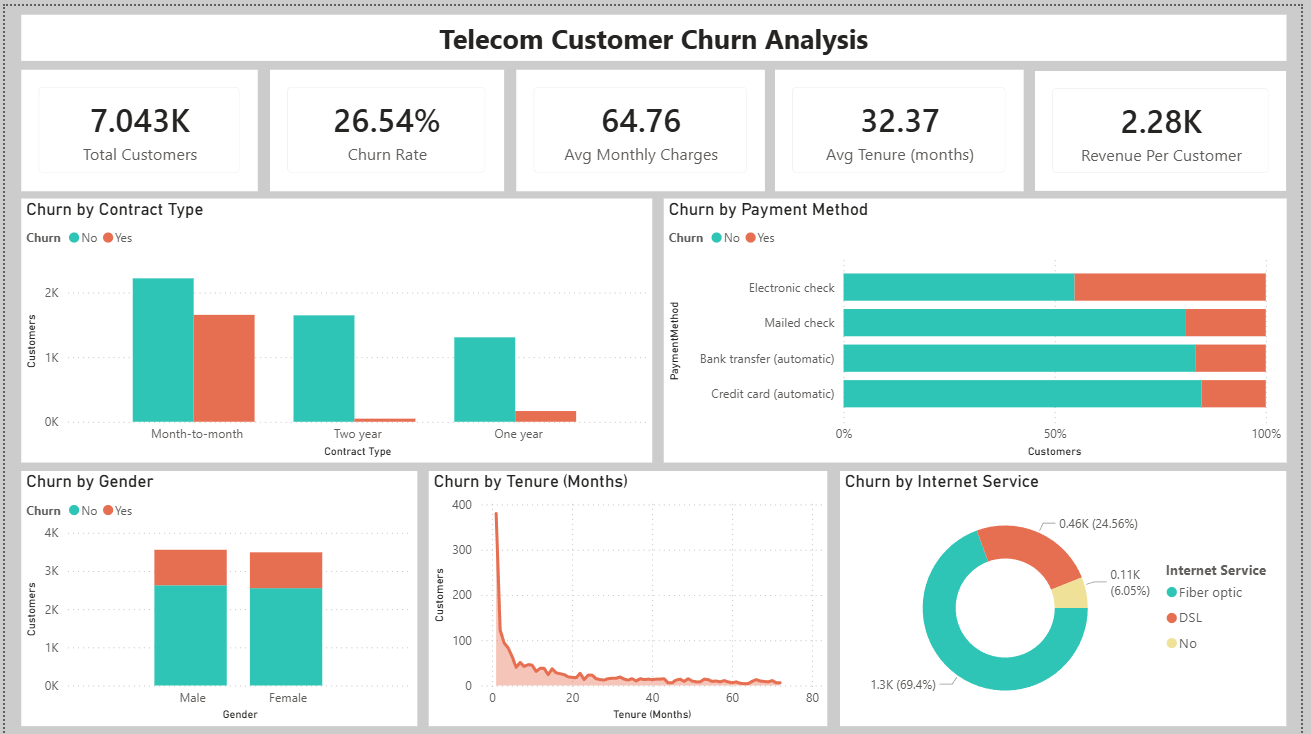

The dashboard page shown, as its layout file describes it:
{"tool":"powerbi","page":{"name":"Page 1","canvas":[1280,720],"ordinal":0},"visuals":[{"type":"clusteredColumnChart","title":"Churn by Contract Type","fields":{"Category":["WA_Fn-UseC_-Telco-Customer-Chur.Contract"],"Y":["CountNonNull(WA_Fn-UseC_-Telco-Customer-Chur.Churn)"],"Series":["WA_Fn-UseC_-Telco-Customer-Chur.Churn"]},"box":[16,190.1,623.5,260.5],"z":0},{"type":"areaChart","title":"Churn by Tenure (Months)","fields":{"Category":["WA_Fn-UseC_-Telco-Customer-Chur.tenure"],"Y":["CountNonNull(WA_Fn-UseC_-Telco-Customer-Chur.Churn)"]},"box":[418.5,459.3,393.8,251.9],"z":1000},{"type":"donutChart","title":"Churn by Internet Service","fields":{"Y":["CountNonNull(WA_Fn-UseC_-Telco-Customer-Chur.InternetService)"],"Category":["WA_Fn-UseC_-Telco-Customer-Chur.InternetService"]},"box":[824.7,459.3,440.7,251.9],"z":2000},{"type":"hundredPercentStackedBarChart","title":"Churn by Payment Method","fields":{"Category":["WA_Fn-UseC_-Telco-Customer-Chur.PaymentMethod"],"Y":["CountNonNull(WA_Fn-UseC_-Telco-Customer-Chur.Churn)"],"Series":["WA_Fn-UseC_-Telco-Customer-Chur.Churn"]},"box":[650.6,190.1,614.8,260.5],"z":3000},{"type":"columnChart","title":"Churn by Gender","fields":{"Y":["CountNonNull(WA_Fn-UseC_-Telco-Customer-Chur.Churn)"],"Series":["WA_Fn-UseC_-Telco-Customer-Chur.Churn"],"Category":["WA_Fn-UseC_-Telco-Customer-Chur.gender"]},"box":[16,459.3,391.4,251.9],"z":4000},{"type":"cardVisual","fields":{"Data":["CountNonNull(WA_Fn-UseC_-Telco-Customer-Chur.customerID)"]},"box":[16,63,233.3,119.8],"z":5000},{"type":"cardVisual","fields":{"Data":["WA_Fn-UseC_-Telco-Customer-Chur.ChurnRate"]},"box":[261.7,63,230.9,119.8],"z":6000},{"type":"cardVisual","fields":{"Data":["Avg(WA_Fn-UseC_-Telco-Customer-Chur.MonthlyCharges)"]},"box":[504.9,63,245.7,119.8],"z":7000},{"type":"cardVisual","fields":{"Data":["Avg(WA_Fn-UseC_-Telco-Customer-Chur.tenure)"]},"box":[760.5,63,245.7,119.8],"z":8000},{"type":"cardVisual","fields":{"Data":["WA_Fn-UseC_-Telco-Customer-Chur.Avg Revenue Per Customer"]},"box":[1017.3,64.2,248.1,118.5],"z":9000},{"type":"textbox","box":[16,8.6,1249.4,45.7],"z":10000}]}

Visuals, with their boxes in screenshot pixels (x1, y1, x2, y2), scaled from the page's 1280x720 canvas onto the 1311x734 screenshot:
"Churn by Contract Type" clusteredColumnChart: box(16, 194, 655, 459)
"Churn by Tenure (Months)" areaChart: box(429, 468, 832, 725)
"Churn by Internet Service" donutChart: box(845, 468, 1296, 725)
"Churn by Payment Method" hundredPercentStackedBarChart: box(666, 194, 1296, 459)
"Churn by Gender" columnChart: box(16, 468, 417, 725)
cardVisual - CountNonNull(WA_Fn-UseC_-Telco-Customer-Chur.customerID): box(16, 64, 255, 186)
cardVisual - WA_Fn-UseC_-Telco-Customer-Chur.ChurnRate: box(268, 64, 505, 186)
cardVisual - Avg(WA_Fn-UseC_-Telco-Customer-Chur.MonthlyCharges): box(517, 64, 769, 186)
cardVisual - Avg(WA_Fn-UseC_-Telco-Customer-Chur.tenure): box(779, 64, 1031, 186)
cardVisual - WA_Fn-UseC_-Telco-Customer-Chur.Avg Revenue Per Customer: box(1042, 65, 1296, 186)
textbox: box(16, 9, 1296, 55)
